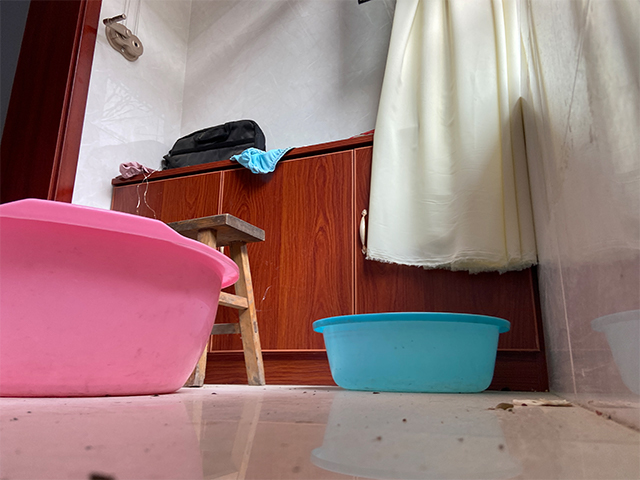cabinet: (108, 133, 549, 392)
stool: (165, 214, 267, 388)
